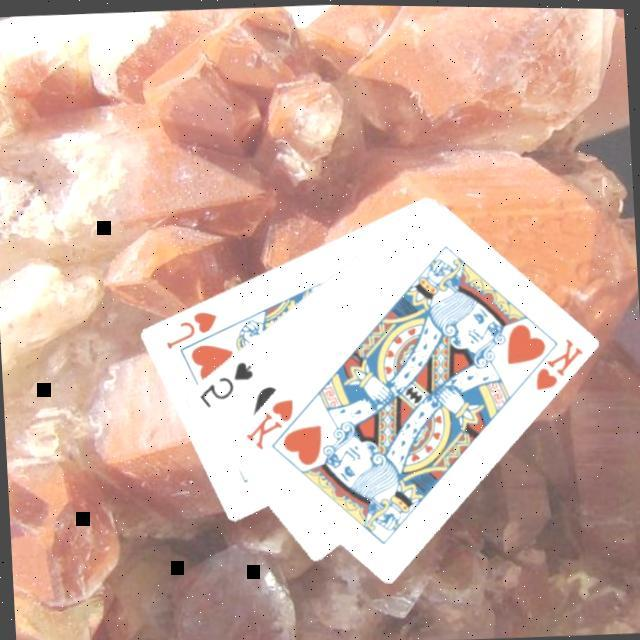5S: (192, 354, 257, 409)
JH: (160, 304, 220, 351)
KH: (238, 392, 298, 452), (528, 329, 586, 391)
